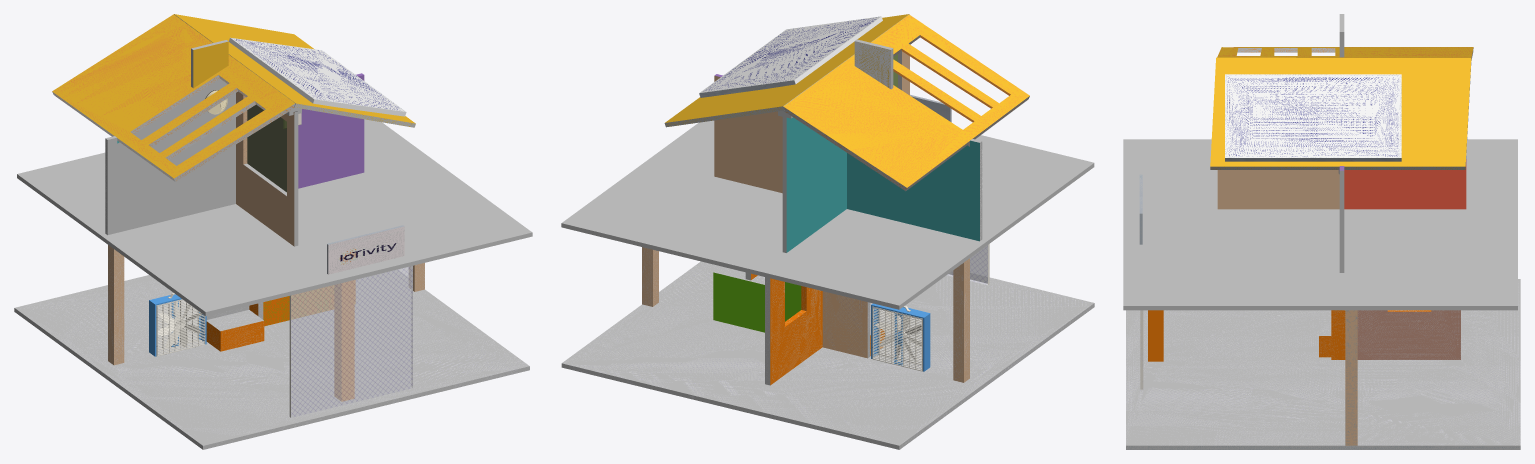
File: SmartHouseSketchResized.dae
3 views of the same model, side by side, from view 1: azimuth 30°, elevation 25°; view 2: azimuth 150°, elevation 25°; view 3: azimuth 270°, elevation 25° (orthographic). The views are drawn at different scales.
Visible parts, largest first — view 1: SketchUp (×17), group_2 (×2), group_1, sun_power305_single_crystalline (×4), group_0 (×2), group_3, Component_35, Component_36; view 2: SketchUp (×15), group_2 (×2), sun_power305_single_crystalline (×4), group_0 (×2), Component_35, Component_36, group_1; view 3: SketchUp (×11), sun_power305_single_crystalline (×4), group_0 (×2), group_2.
Boxes of the visible parts, x1,y1,x2,y2 form: SketchUp (×17): (14,41,532,449); group_2 (×2): (52,14,295,181); group_1: (291,266,412,417); sun_power305_single_crystalline (×4): (228,37,406,116); group_0 (×2): (174,14,415,127); group_3: (328,226,404,274); Component_35: (157,300,204,355); Component_36: (149,298,206,356); SketchUp (×15): (561,41,1094,449); group_2 (×2): (783,14,1029,191); sun_power305_single_crystalline (×4): (699,16,880,97); group_0 (×2): (664,14,909,127); Component_35: (873,308,921,370); Component_36: (871,305,930,371); group_1: (947,245,987,285); SketchUp (×11): (1123,139,1520,449); sun_power305_single_crystalline (×4): (1225,74,1401,161); group_0 (×2): (1210,57,1471,169); group_2: (1217,47,1473,57).
Size of the model in its own units: 15.82 by 15.86 by 13.94.
